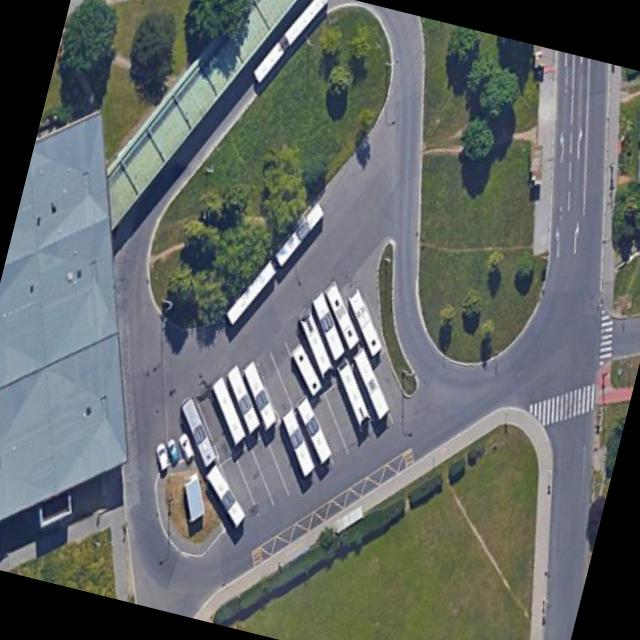large-vehicle: (253, 0, 327, 80), (274, 199, 323, 265), (226, 259, 275, 323), (354, 345, 388, 418), (206, 462, 245, 525), (337, 356, 370, 430), (211, 373, 245, 444), (296, 393, 331, 461), (298, 306, 333, 374), (227, 361, 260, 433), (181, 396, 215, 464), (348, 286, 381, 356), (282, 404, 314, 474), (326, 280, 358, 347), (313, 289, 343, 359), (292, 342, 322, 395)
small-vehicle: (175, 428, 198, 465), (165, 432, 182, 469), (154, 437, 170, 472)
